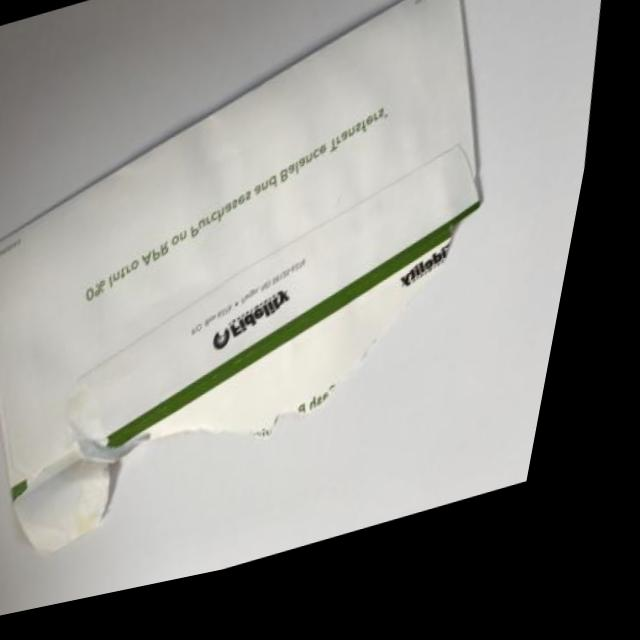paper: (0, 0, 560, 614)
